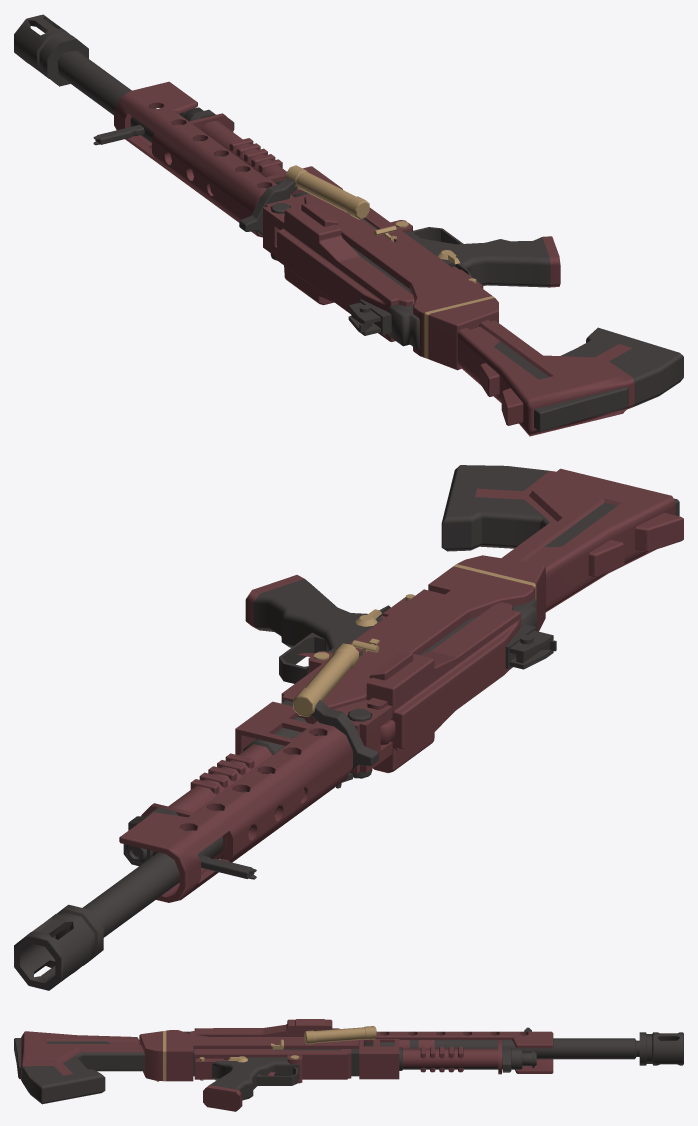
Rendered from mutsuki.glb.
3 views of the same model, one above another, from view 1: azimuth 30°, elevation 25°; view 2: azimuth 150°, elevation 25°; view 3: azimuth 270°, elevation 25° (orthographic). The views are drawn at different scales.
Parts seen in each view (by area): view 1: Mutsuki_Original_Weapon; view 2: Mutsuki_Original_Weapon; view 3: Mutsuki_Original_Weapon.
Part boxes in pixels (x1=…): Mutsuki_Original_Weapon: x1=14, y1=14, x2=683, y2=436; Mutsuki_Original_Weapon: x1=14, y1=465, x2=683, y2=990; Mutsuki_Original_Weapon: x1=14, y1=1019, x2=683, y2=1111.
Bounding box in the file's own units: 0.1894 × 0.0631 × 0.7361.
1 material, 1 textured.
